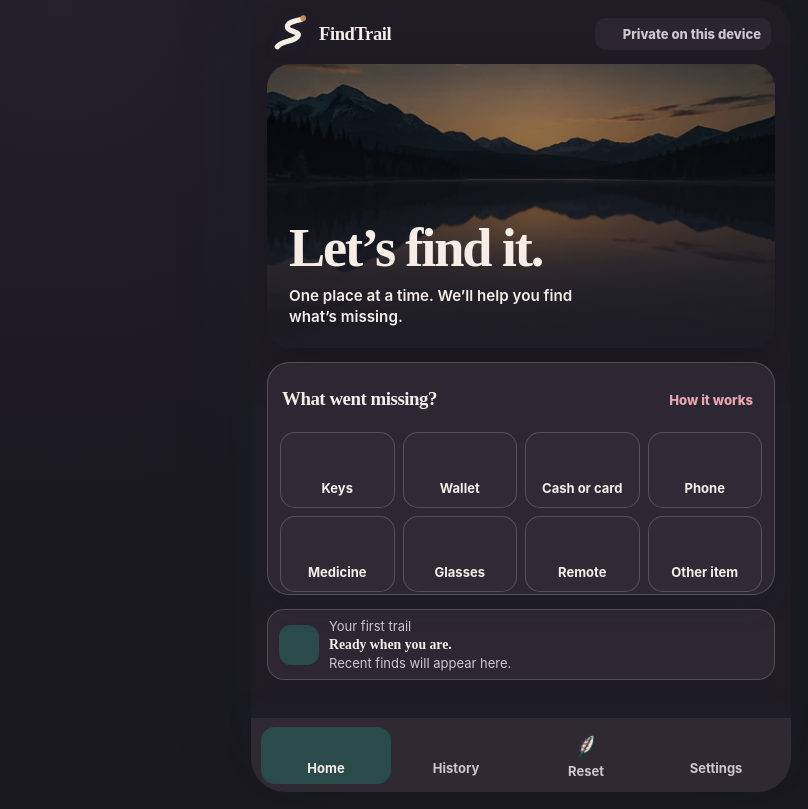
it: FindTrail app › shows time-critical medicine guidance as soon as the urgent clue is selected
Click the button "Medicine" at (337,554), box [280, 516, 394, 592]
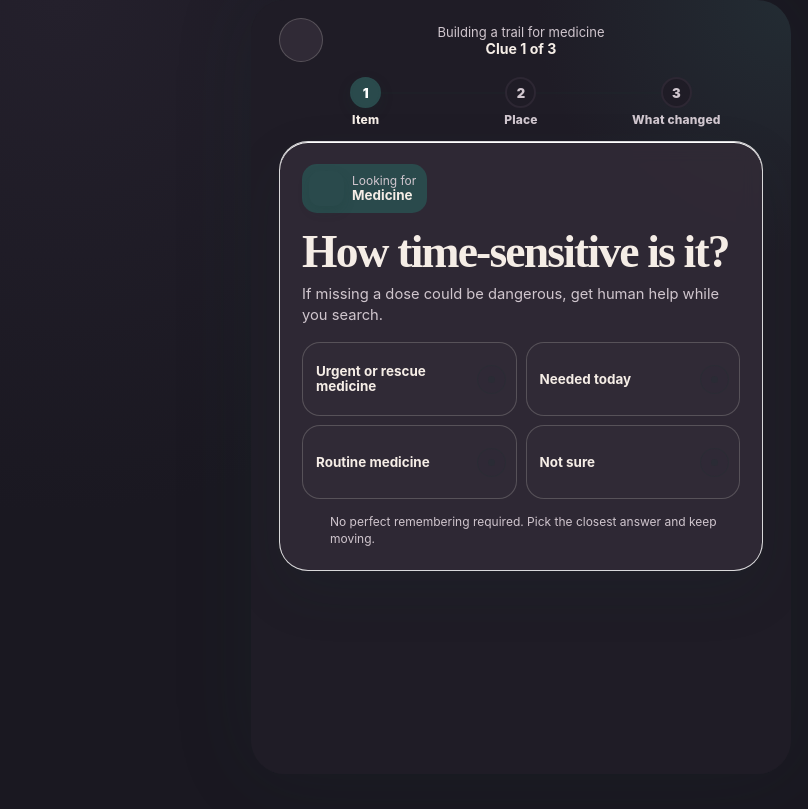
Click the button "Urgent or rescue medicine" at (409,379), box [302, 342, 516, 416]
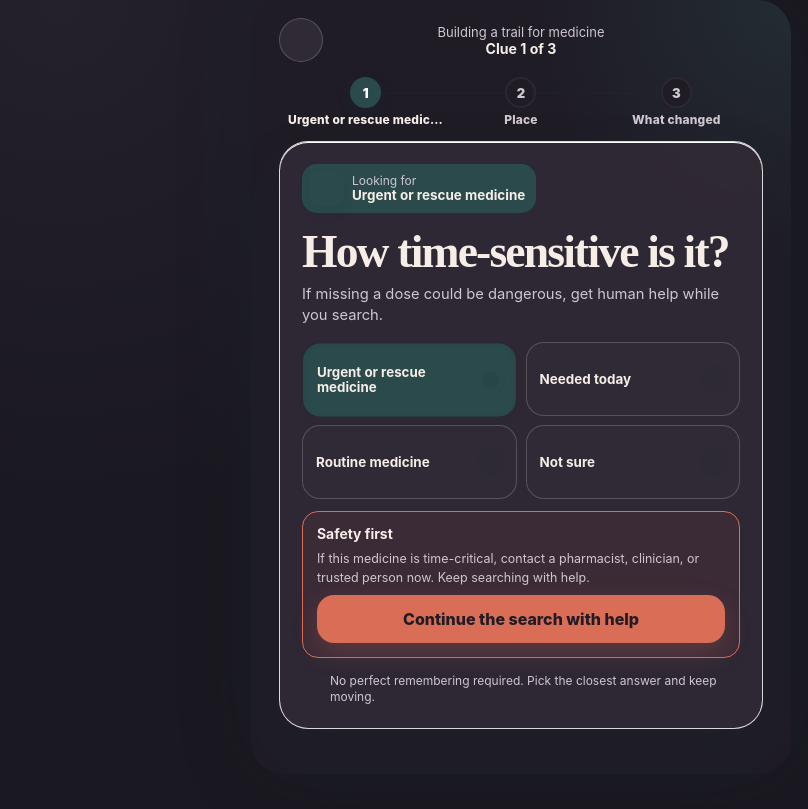
Result: the message shows "contact a pharmacist, clinician, or trusted person now" at [317, 551, 699, 584]
Click the button "Continue the search with help" at (521,619), box [317, 595, 725, 643]
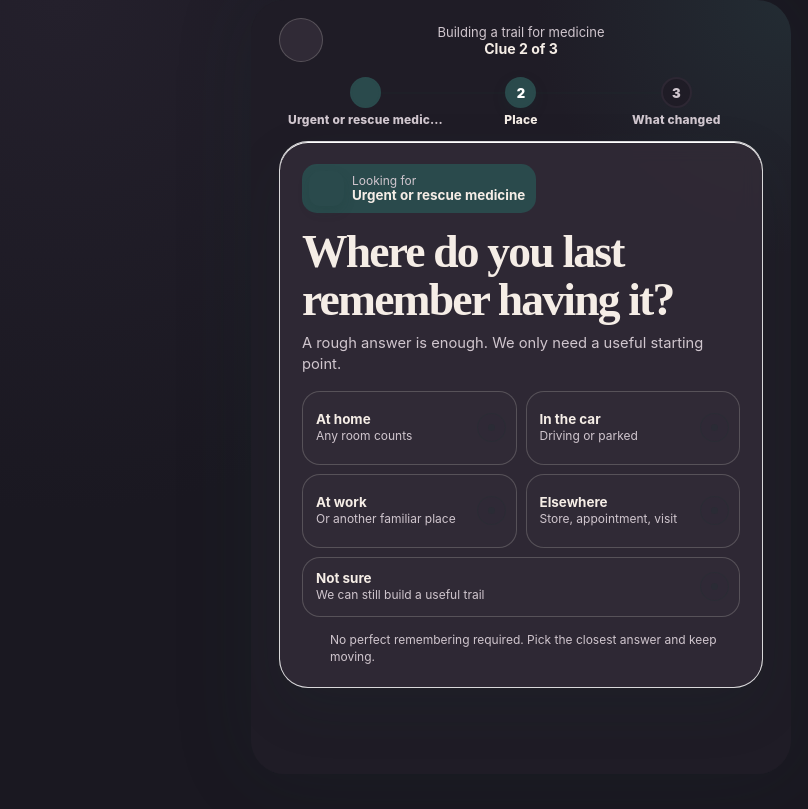
Result: the heading "Where do you last remember having it?" is shown at [302, 226, 673, 325]
